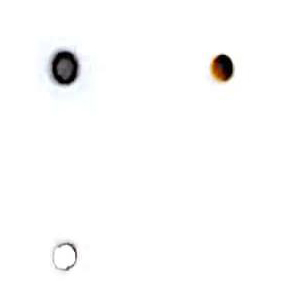abnormal: (41, 229, 93, 282)
cancer: (34, 37, 101, 99)
normal: (185, 35, 249, 96)
